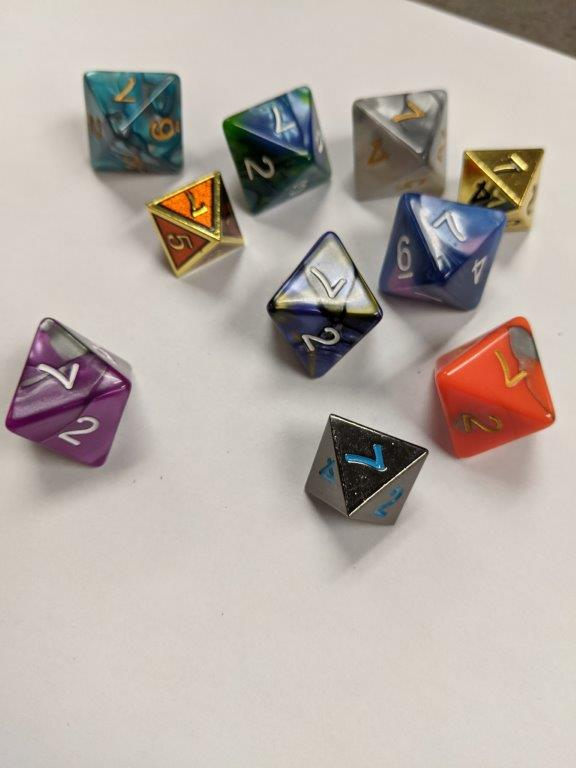d8-7: (7, 317, 137, 468), (432, 314, 557, 458), (268, 228, 381, 381), (377, 188, 506, 313), (301, 412, 429, 529), (226, 86, 333, 217), (349, 87, 449, 204), (81, 68, 188, 177), (145, 171, 246, 274), (456, 144, 545, 235)
